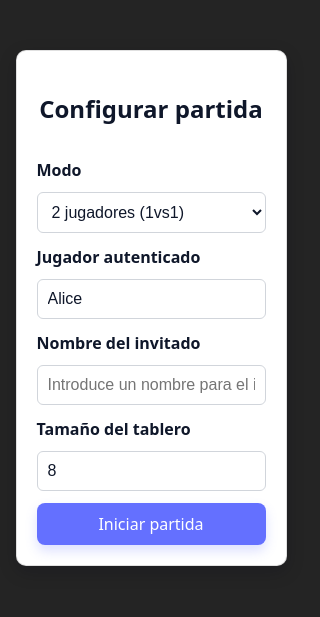
StartGameForm › muestra error de sesión expirada cuando no hay token
The image size is (320, 617).
Type "Bob" into the field labelled "Nombre del invitado" at x=151, y=385, box [36,365,266,405]
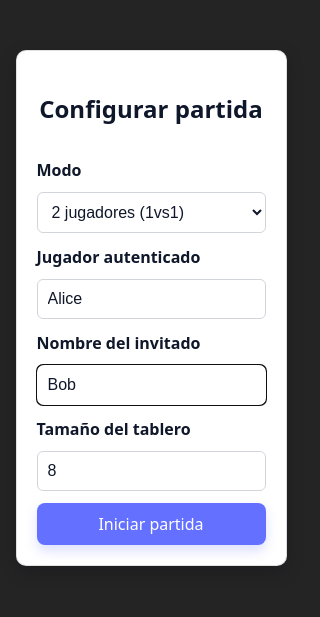
Click the button "Iniciar partida" at x=151, y=524, box [36,503,266,545]
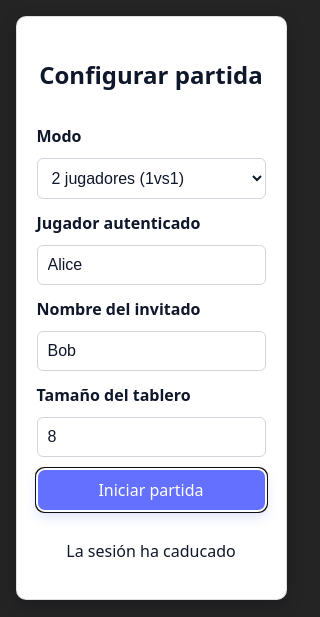
Now the text "La sesión ha caducado" is shown, box [66,540,236,562]
